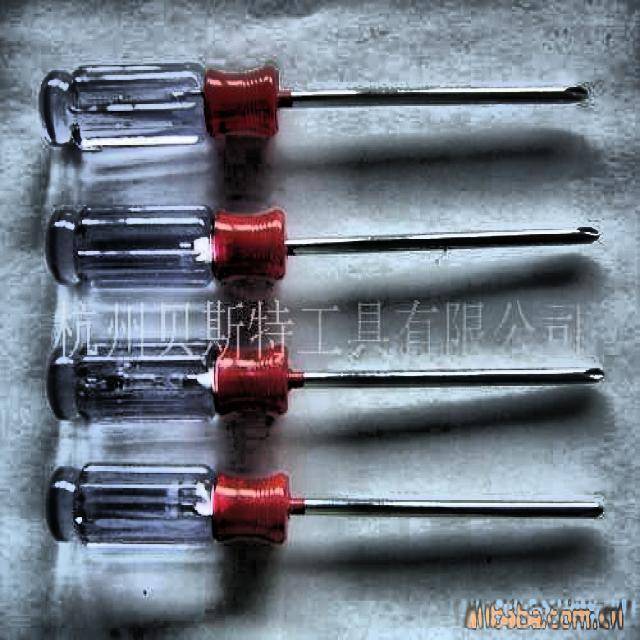screwdriver: (40, 62, 589, 150), (46, 203, 601, 290), (48, 462, 604, 548), (48, 341, 604, 424)
